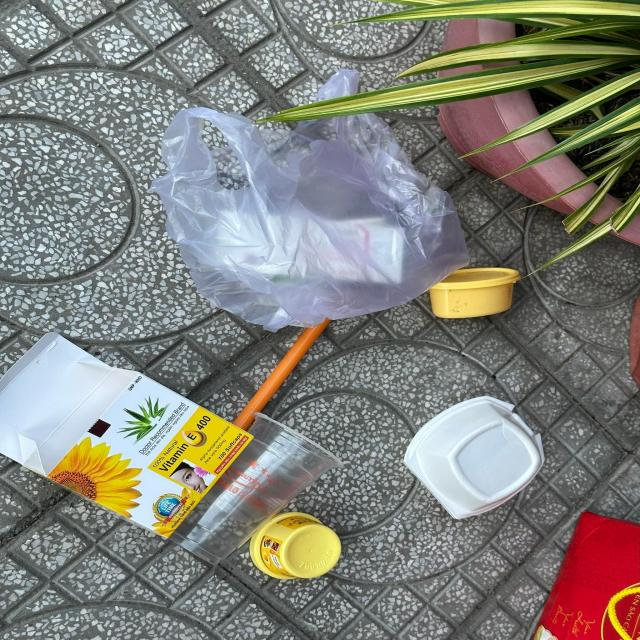bag: (153, 72, 471, 332)
cardboard box: (0, 332, 254, 538), (3, 335, 251, 540)
drinking straw: (234, 318, 332, 432)
foam box: (403, 396, 544, 519)
plastic glass: (170, 412, 340, 568)
plastic holder: (249, 514, 340, 580), (428, 270, 518, 320)
